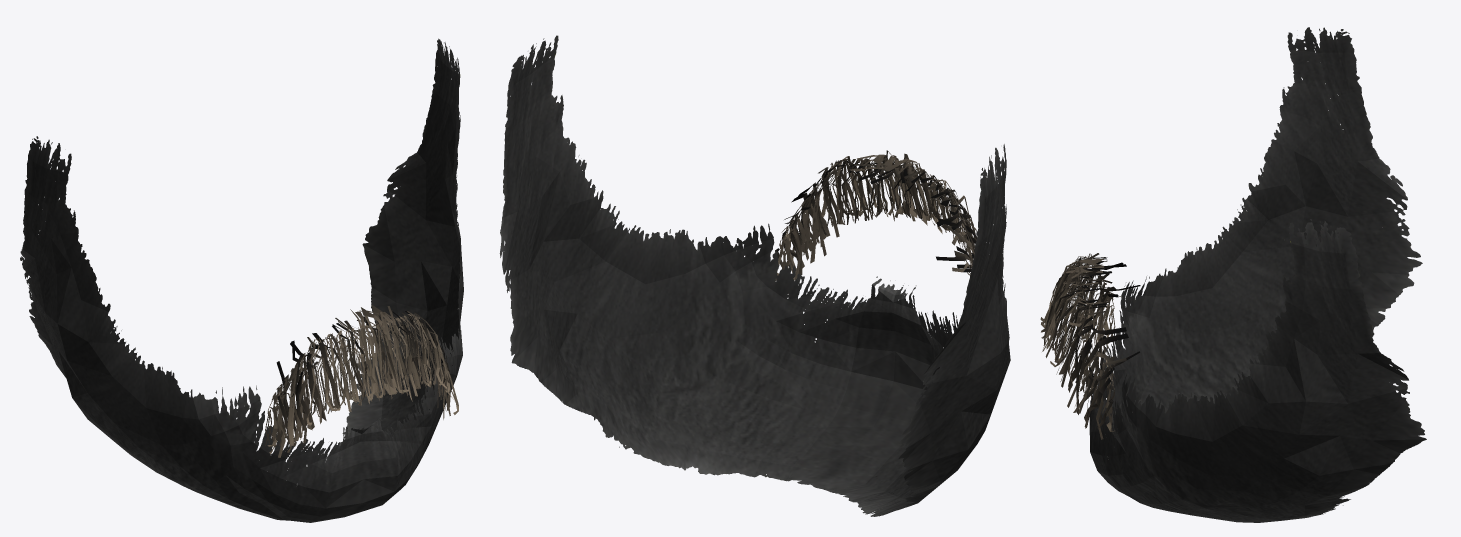
Rendered from ewb_beard_fullbushy.glb.
3 renders of one model, left to right at view 1: azimuth 30°, elevation 25°; view 2: azimuth 150°, elevation 25°; view 3: azimuth 270°, elevation 25°, orthographic. The views are drawn at different scales.
Parts seen in each view (by area): view 1: ewb_beard_fullbushy; view 2: ewb_beard_fullbushy; view 3: ewb_beard_fullbushy.
Part boxes in pixels (bbox=[...]): ewb_beard_fullbushy: bbox=[20, 38, 463, 522]; ewb_beard_fullbushy: bbox=[499, 35, 1010, 516]; ewb_beard_fullbushy: bbox=[1040, 27, 1426, 522].
Size of the model in its own units: 0.1463 by 0.1299 by 0.125.
1 material, 1 textured.
